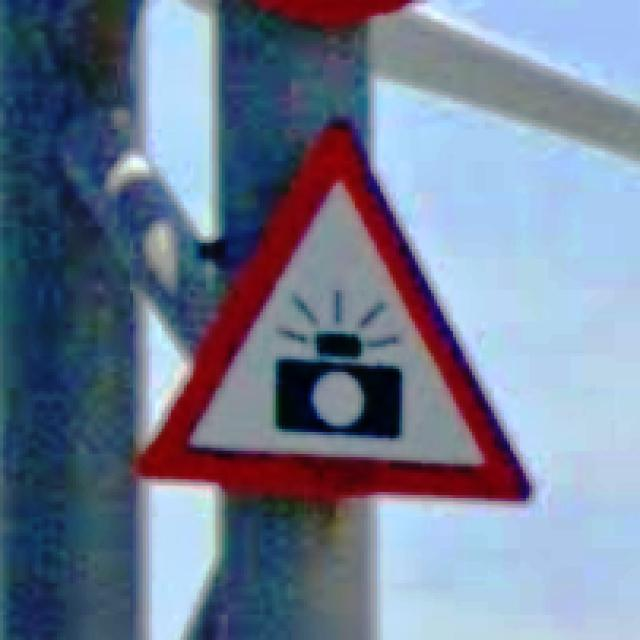speedcamera: (133, 116, 536, 508)
